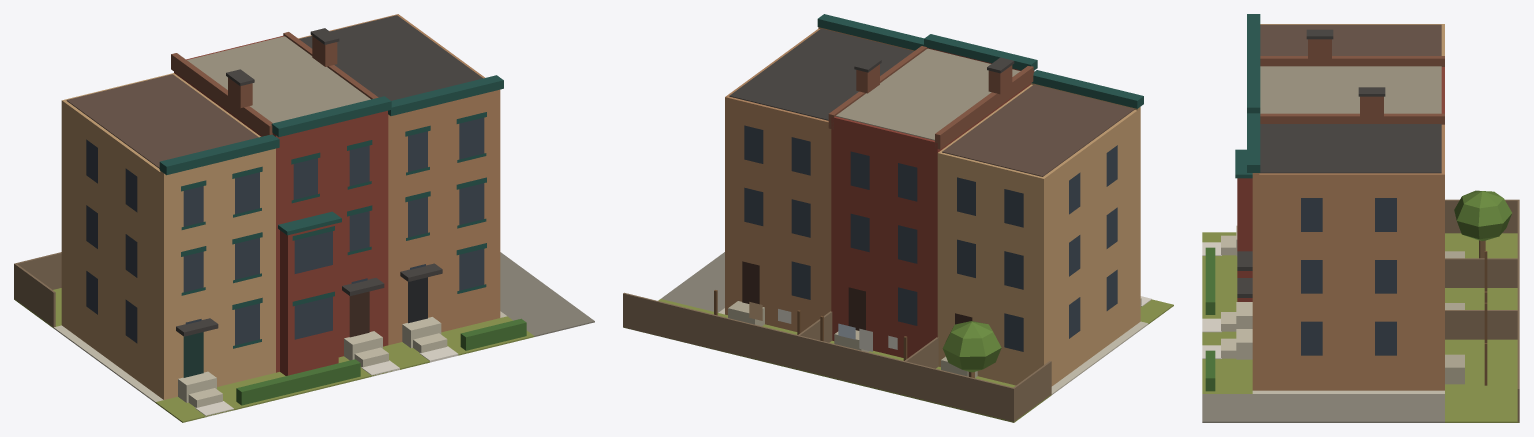
Rendered from terrace_c.glb.
3 renders of one model, left to right at view 1: azimuth 30°, elevation 25°; view 2: azimuth 150°, elevation 25°; view 3: azimuth 270°, elevation 25°, orthographic. The views are drawn at different scales.
Visible parts, largest first — view 1: terrace_c; view 2: terrace_c; view 3: terrace_c.
Boxes of the visible parts, left/top/right/bottom form: terrace_c: left=14, top=14, right=594, bottom=422; terrace_c: left=623, top=14, right=1173, bottom=422; terrace_c: left=1202, top=14, right=1519, bottom=422.
Size of the model in its own units: 24 by 15.11 by 17.
